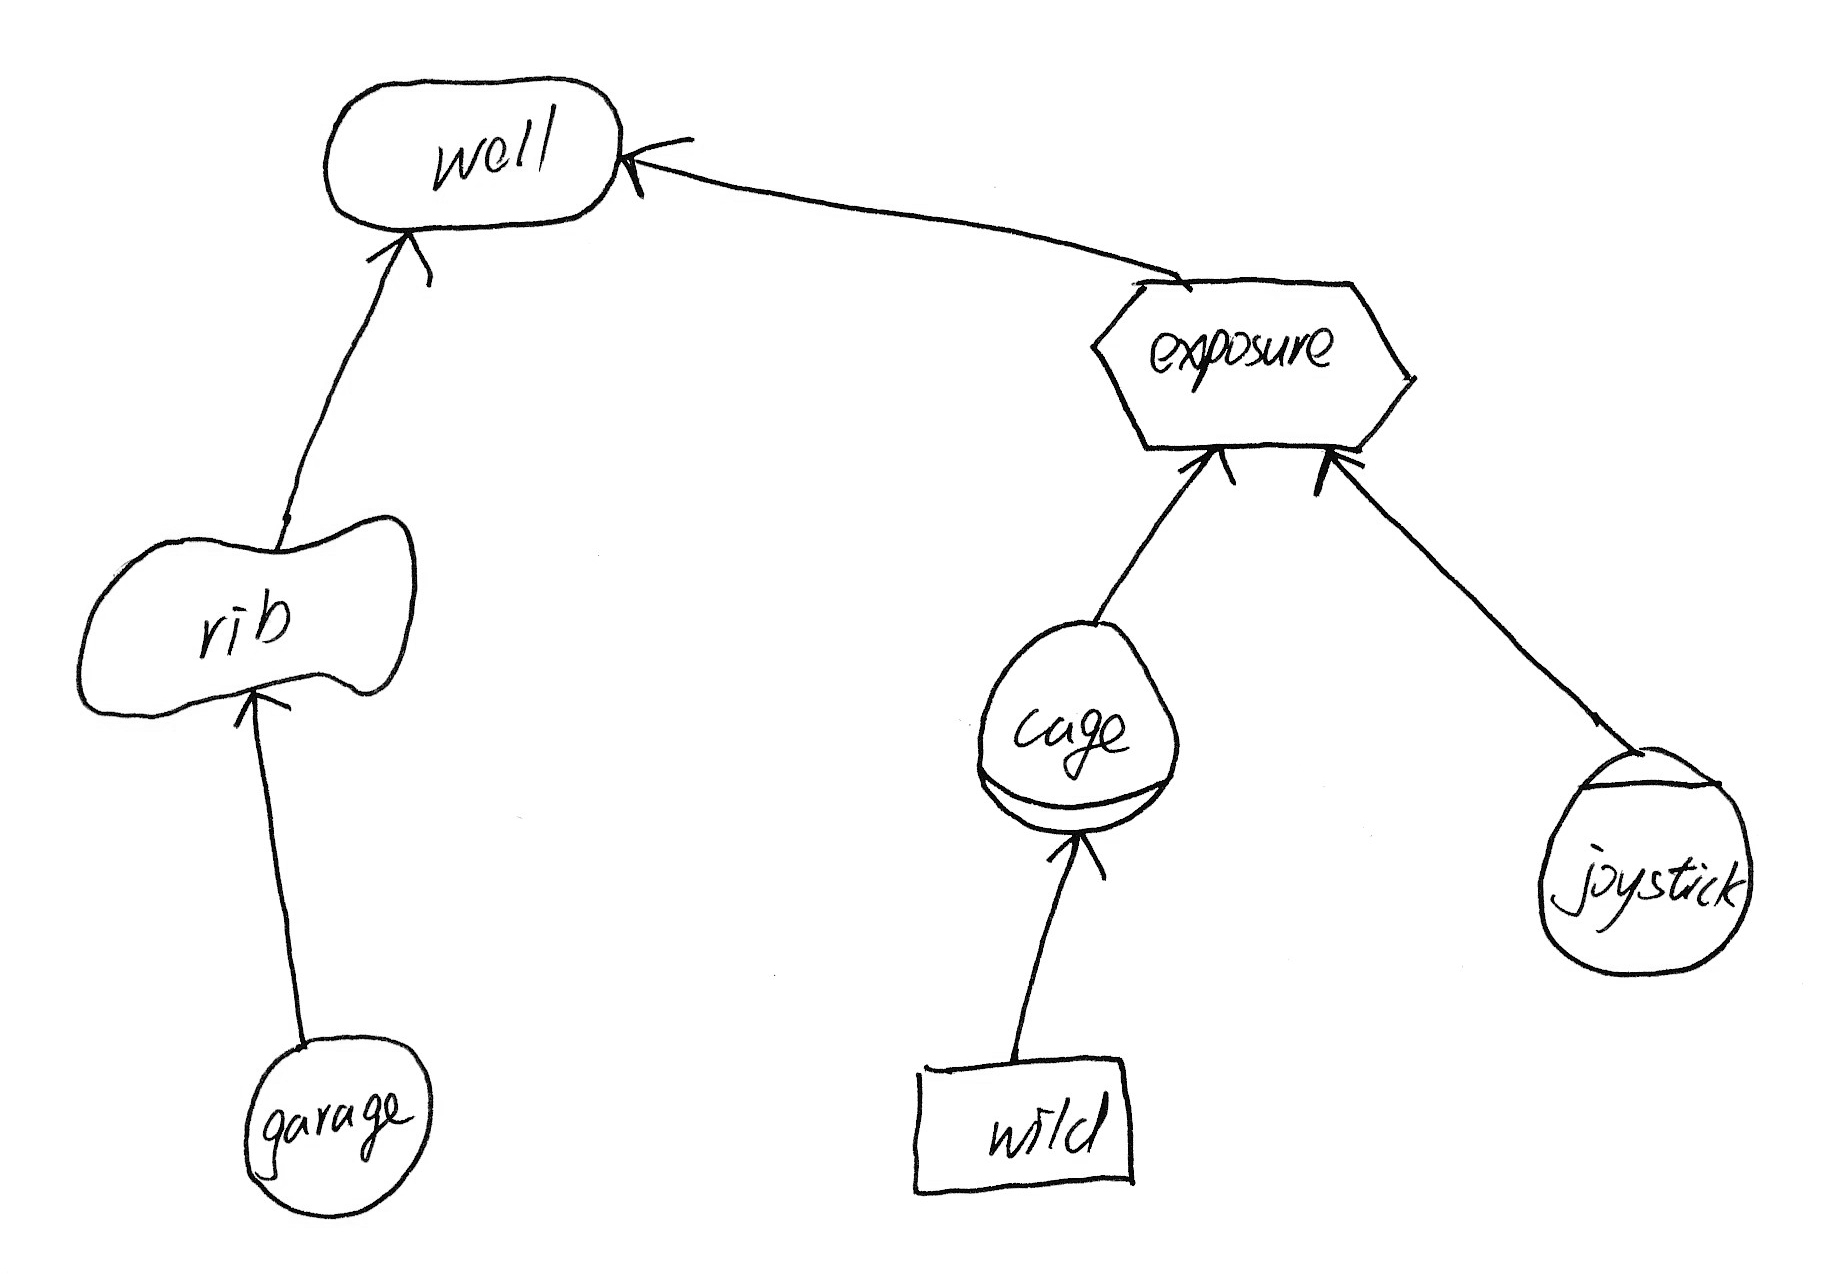actor: (228, 1021, 448, 1232)
agent: (1520, 732, 1770, 989)
arrow: (606, 128, 703, 206), (362, 220, 440, 292), (1040, 815, 1110, 893), (1301, 439, 1378, 501), (226, 681, 301, 742), (1166, 433, 1244, 492)
goal: (309, 65, 639, 251)
quality: (58, 499, 433, 728)
resource: (891, 1046, 1170, 1207)
role: (960, 604, 1196, 852)
task: (1075, 256, 1433, 469)
